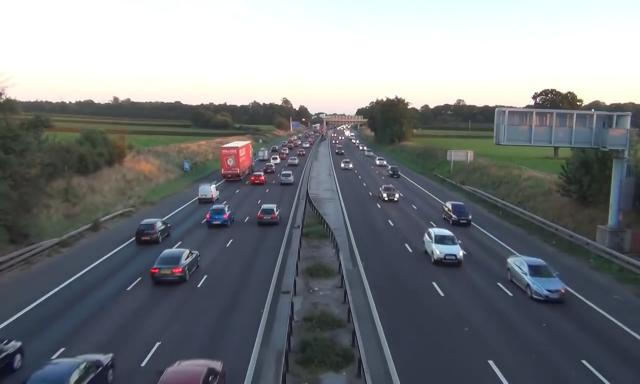caminhaop: (220, 140, 256, 181)
carro: (506, 254, 568, 304), (22, 352, 118, 384), (151, 247, 201, 287), (157, 357, 227, 384), (423, 228, 461, 264), (0, 336, 23, 384), (134, 218, 172, 245), (442, 202, 473, 228), (206, 204, 236, 230), (256, 204, 282, 226), (379, 185, 400, 204), (251, 170, 267, 186), (386, 165, 402, 179), (280, 170, 294, 185), (263, 162, 276, 172), (340, 160, 352, 170), (287, 157, 300, 166), (375, 157, 387, 166), (271, 155, 281, 164), (278, 152, 286, 160), (281, 147, 289, 155), (336, 147, 344, 155), (365, 148, 373, 156), (298, 149, 306, 156), (359, 144, 367, 151), (271, 146, 278, 153), (287, 144, 294, 151), (352, 138, 359, 144), (288, 138, 294, 144), (303, 142, 309, 148), (332, 138, 338, 144), (338, 134, 344, 140), (292, 142, 299, 147), (282, 141, 287, 147), (356, 142, 362, 147), (292, 136, 298, 140), (295, 140, 301, 144), (332, 132, 337, 136)
van: (197, 182, 221, 204), (258, 148, 270, 162), (349, 132, 355, 140)
